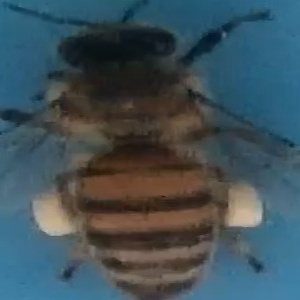bee: (10, 2, 293, 299)
